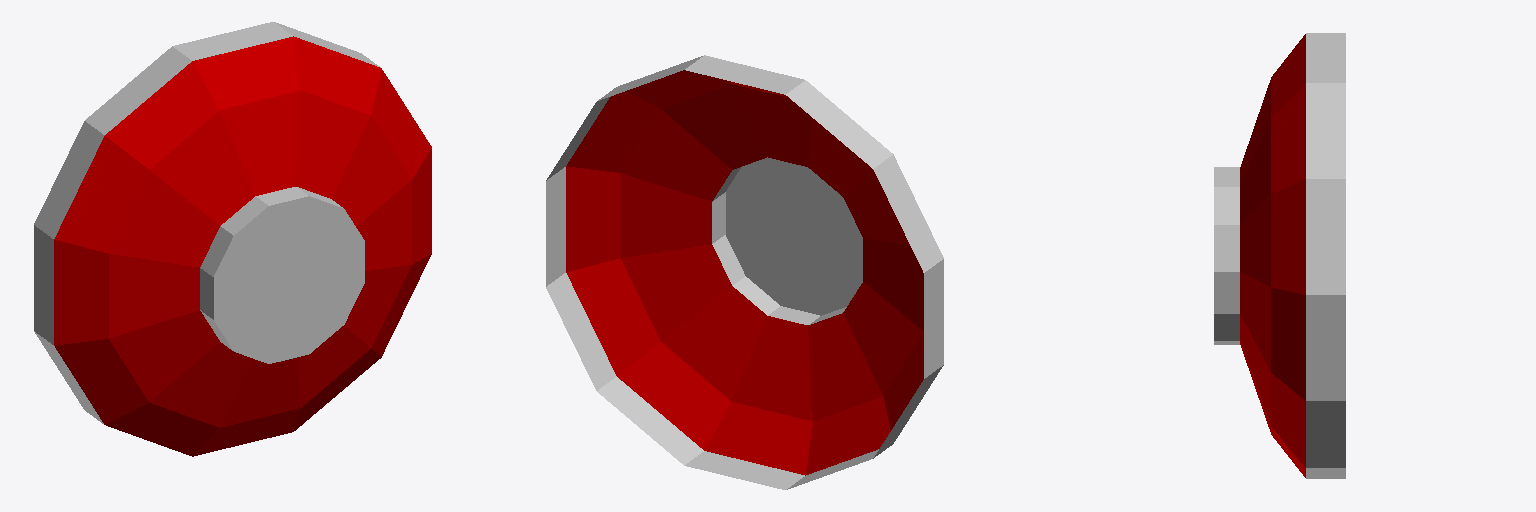
The model's file is Track1HammerButton.obj.
3 views of the same model, side by side, from view 1: azimuth 30°, elevation 25°; view 2: azimuth 150°, elevation 25°; view 3: azimuth 270°, elevation 25° (orthographic).
Parts seen in each view (by area): view 1: Circle_Circle; view 2: Circle_Circle; view 3: Circle_Circle.
Part boxes in pixels (x1,y1,x2,y2): Circle_Circle: (34, 22, 431, 456); Circle_Circle: (546, 55, 943, 489); Circle_Circle: (1214, 33, 1345, 478).
Bounding box in the file's own units: 0.9852 × 0.9852 × 0.2992.